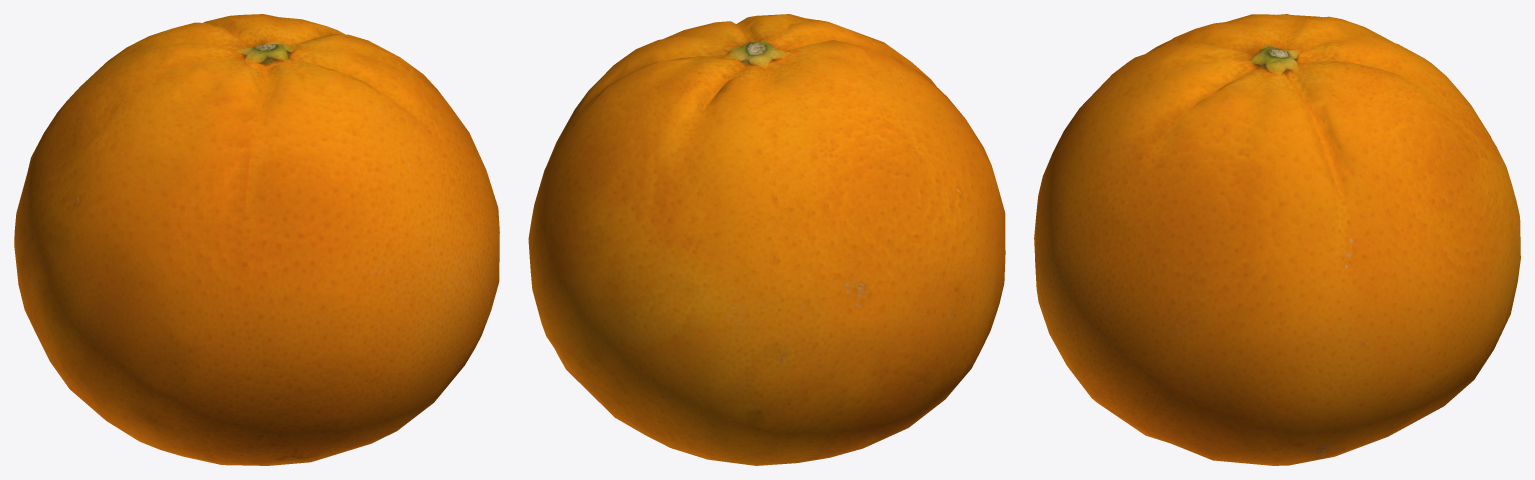
File: Orange.fbx
3 renders of one model, left to right at view 1: azimuth 30°, elevation 25°; view 2: azimuth 150°, elevation 25°; view 3: azimuth 270°, elevation 25°, orthographic.
Visible parts, largest first — view 1: Orange; view 2: Orange; view 3: Orange.
Boxes of the visible parts, x1,y1,x2,y2 form: Orange: [14, 14, 499, 465]; Orange: [528, 14, 1005, 465]; Orange: [1034, 14, 1520, 465].
Size of the model in its own units: 0.1437 by 0.126 by 0.144.
